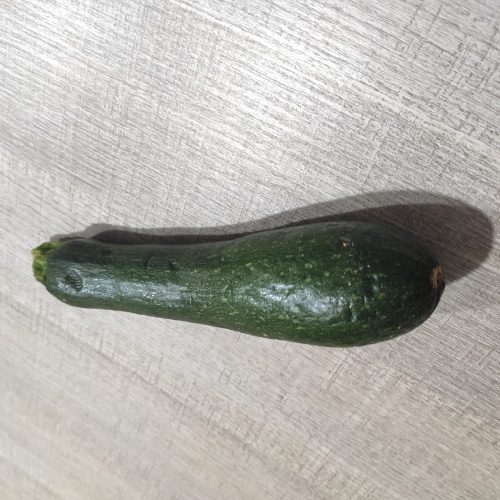zucchine: (29, 230, 454, 346)
